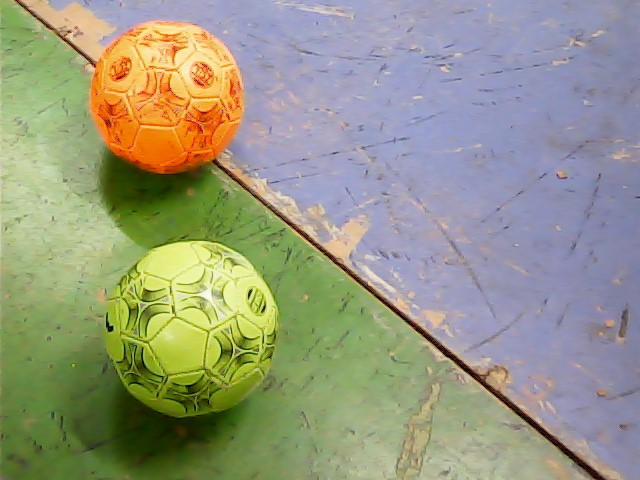Green_ball: (96, 238, 279, 416)
Orange_ball: (82, 18, 256, 174)
